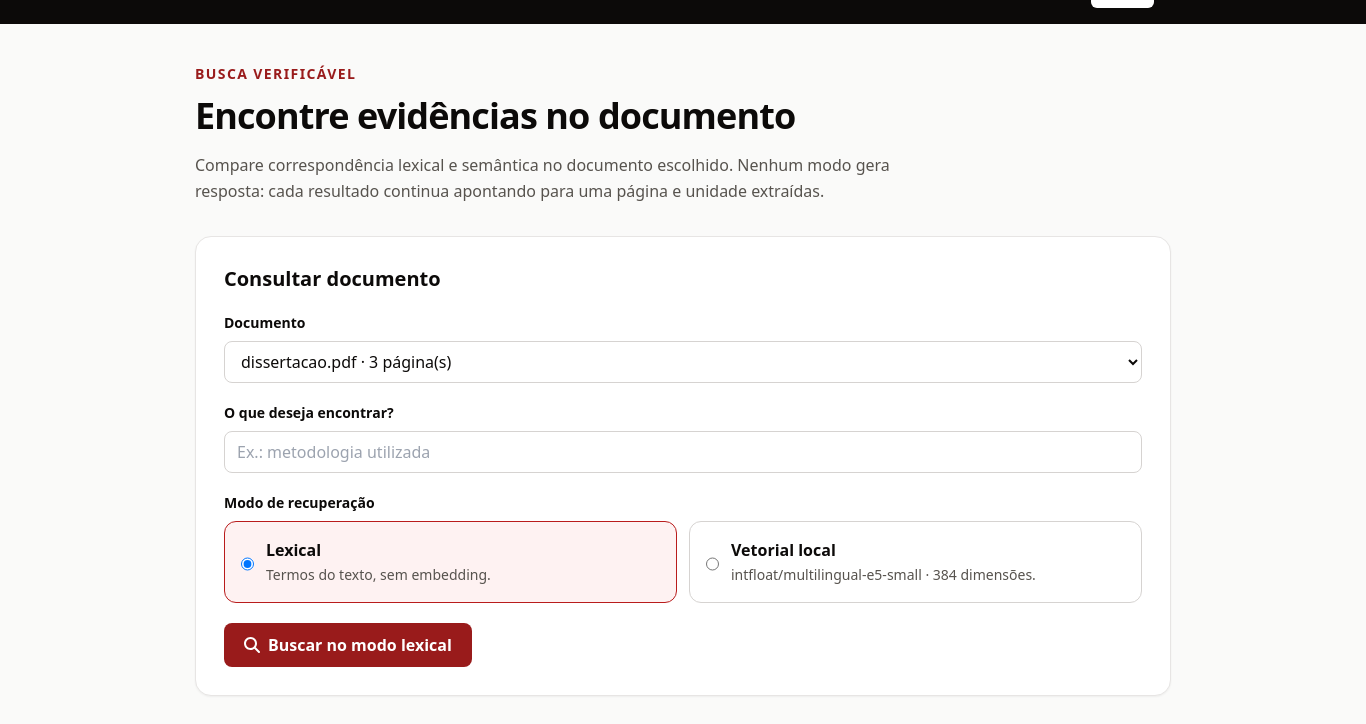
it: Search › apresenta falha da busca sem publicar resultado parcial
The width and height of the screenshot is (1366, 724).
Type "metodologia" into the search field labelled "O que deseja encontrar?". click: x=683, y=452
box: [224,431,1142,473]
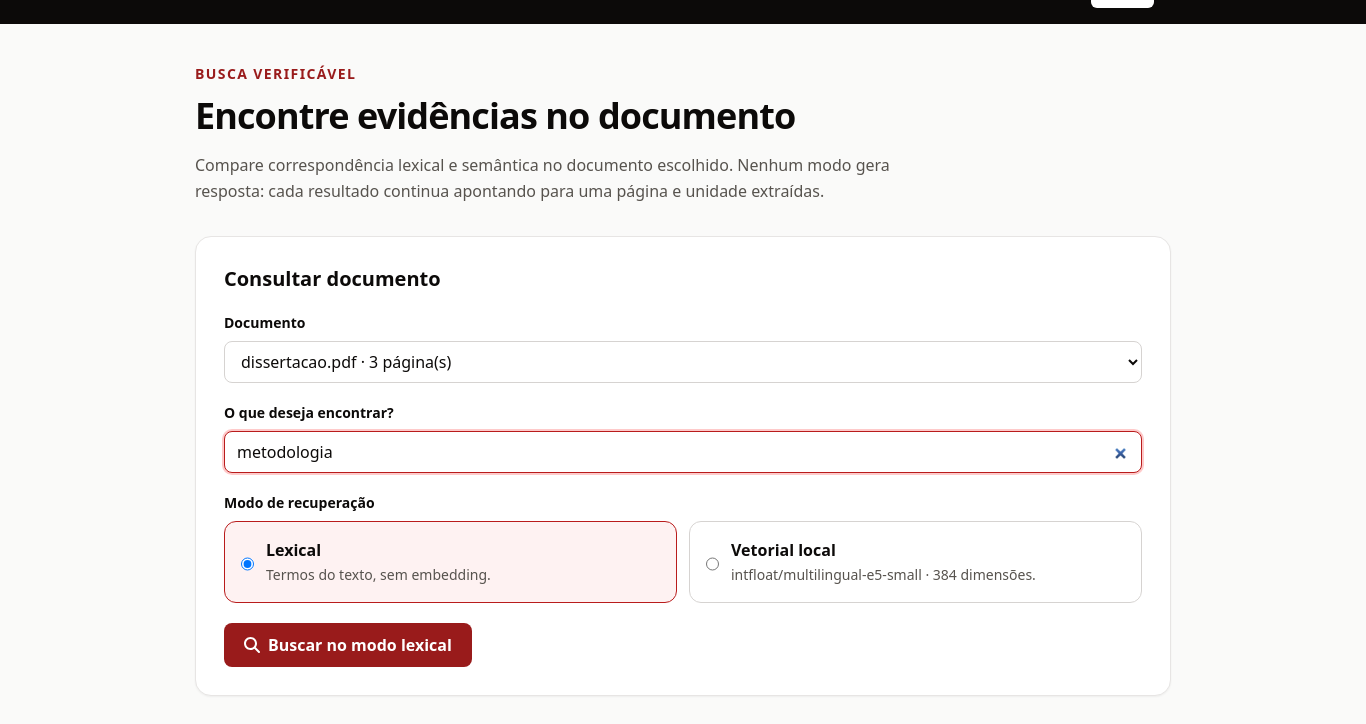
Click the button "Buscar no modo lexical". click: x=348, y=645
box: [224,623,472,667]
(page scrolled)
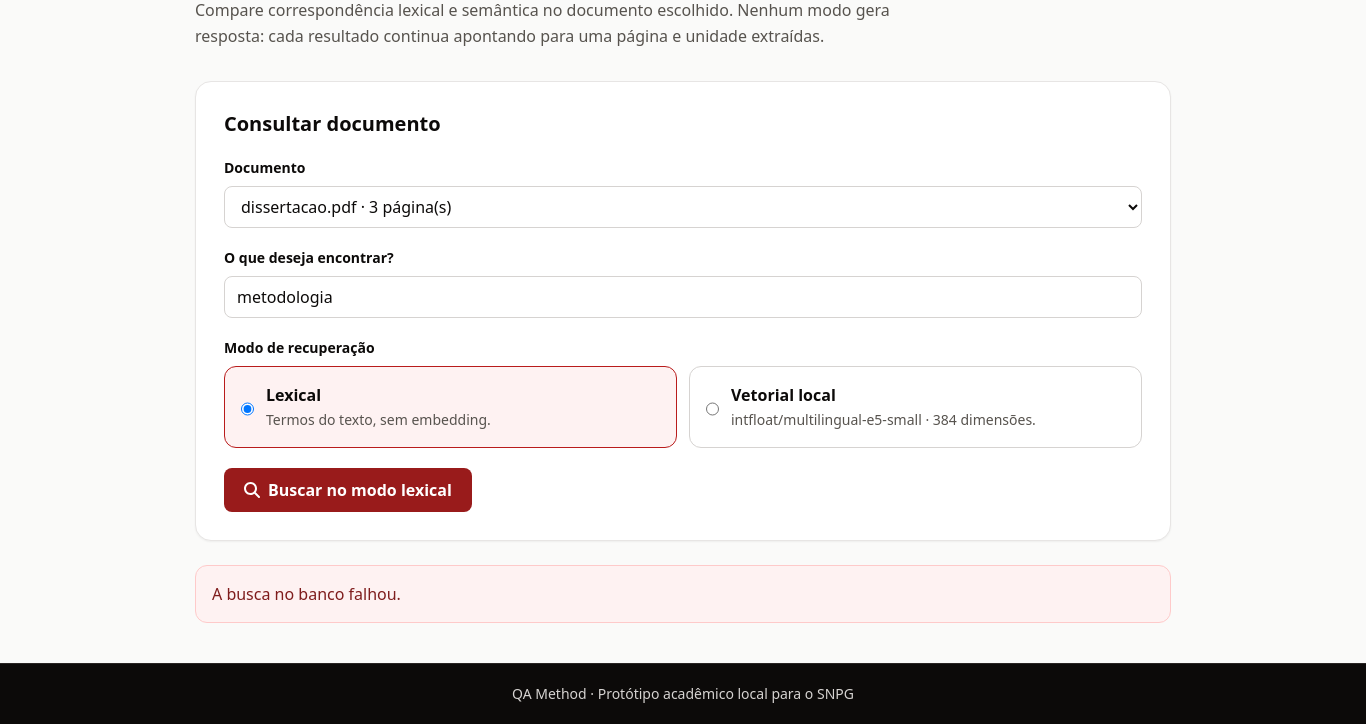
Expected: the message reads "A busca no banco falhou.", [212,583,401,605]
